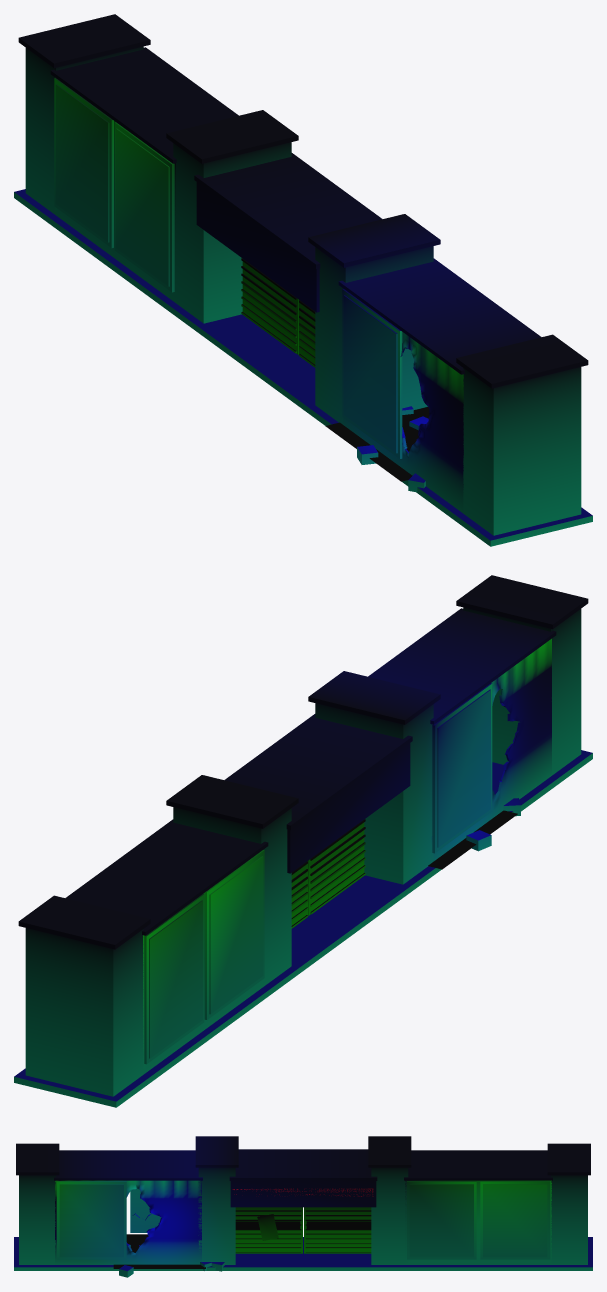
The model's file is s_mediumgate_damaged.glb.
The picture shows the model from 3 angles, top to bottom: view 1: azimuth 30°, elevation 25°; view 2: azimuth 150°, elevation 25°; view 3: azimuth 270°, elevation 25°; orthographic projection. The views are drawn at different scales.
Visible parts, largest first — view 1: lod0, door_l, door_r; view 2: lod0, door_r, door_l; view 3: lod0, door_l, door_r.
Part boxes in pixels (left/top/right/bottom): lod0: left=14, top=14, right=592, bottom=546; door_l: left=241, top=258, right=298, bottom=354; door_r: left=298, top=300, right=315, bottom=367; lod0: left=14, top=575, right=592, bottom=1107; door_r: left=308, top=819, right=365, bottom=915; door_l: left=291, top=861, right=308, bottom=928; lod0: left=14, top=1136, right=592, bottom=1277; door_l: left=304, top=1207, right=371, bottom=1253; door_r: left=235, top=1207, right=302, bottom=1253.
Size of what is drawn, in the model's own units: 9.59 by 11.32 by 56.4.
